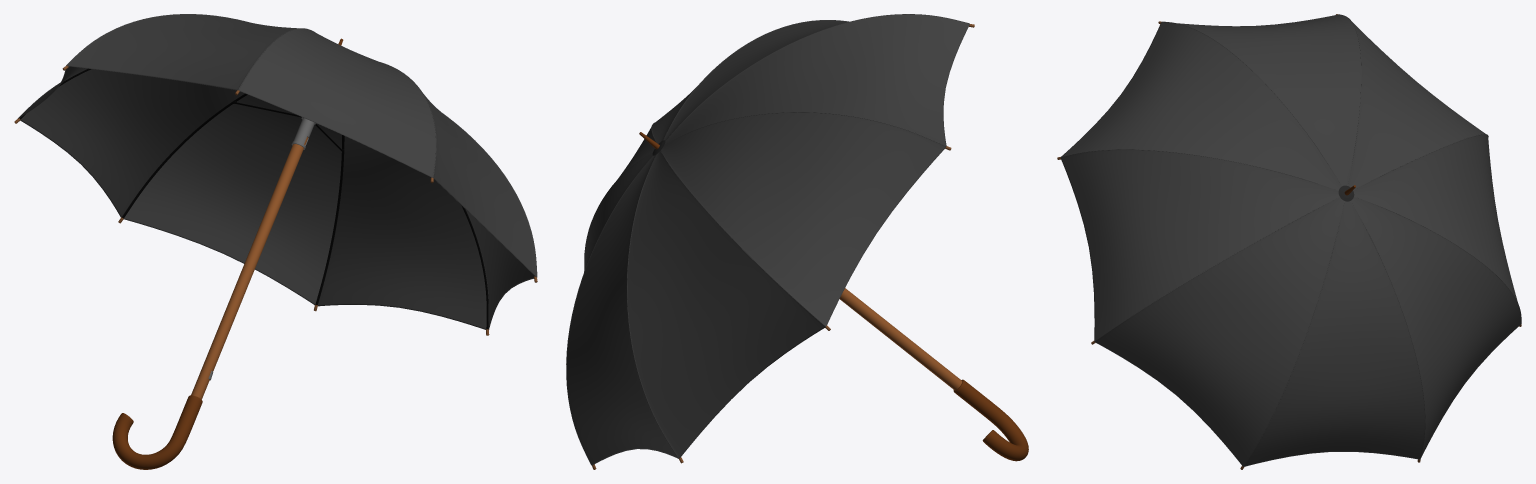
The model's file is bulgarian_umbrella.glb.
3 views of the same model, side by side, from view 1: azimuth 30°, elevation 25°; view 2: azimuth 150°, elevation 25°; view 3: azimuth 270°, elevation 25° (orthographic). The views are drawn at different scales.
Parts seen in each view (by area): view 1: Sphere.004, Cylinder, Cylinder.001, Sphere.002; view 2: Sphere.004, Cylinder.001, Cylinder; view 3: Sphere.004.
Boxes of the visible parts, box(x1,y1,x2,y2) form: Sphere.004: box(18, 14, 537, 329); Cylinder: box(191, 137, 307, 399); Cylinder.001: box(112, 395, 202, 469); Sphere.002: box(19, 68, 488, 329); Sphere.004: box(566, 14, 969, 465); Cylinder.001: box(953, 379, 1028, 461); Cylinder: box(839, 288, 962, 390); Sphere.004: box(1060, 14, 1521, 466).
Size of the model in its own units: 2.94 by 2.81 by 3.33.
